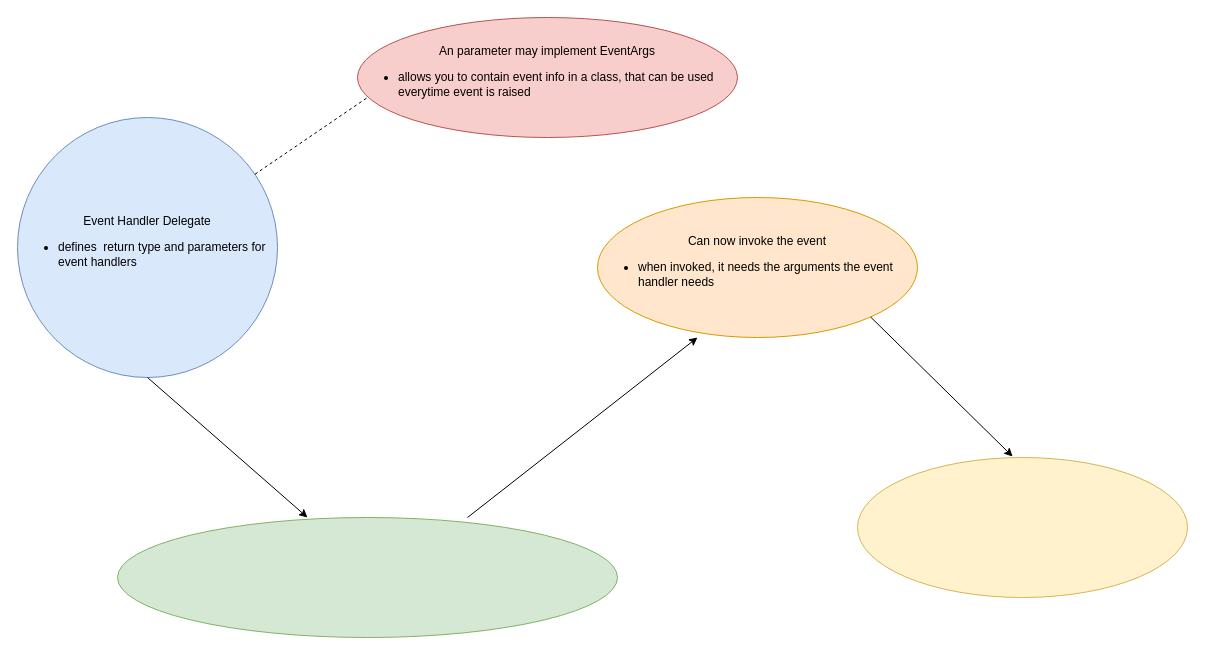
Image size: 1205x655. Some labels were removed from this diagram. Each missing label, with the box of its shape:
Event Needs a delegate and event name: (116, 516, 618, 638)
Handle Event in Another class theobject.Event += anEventHandler: (856, 456, 1188, 598)
